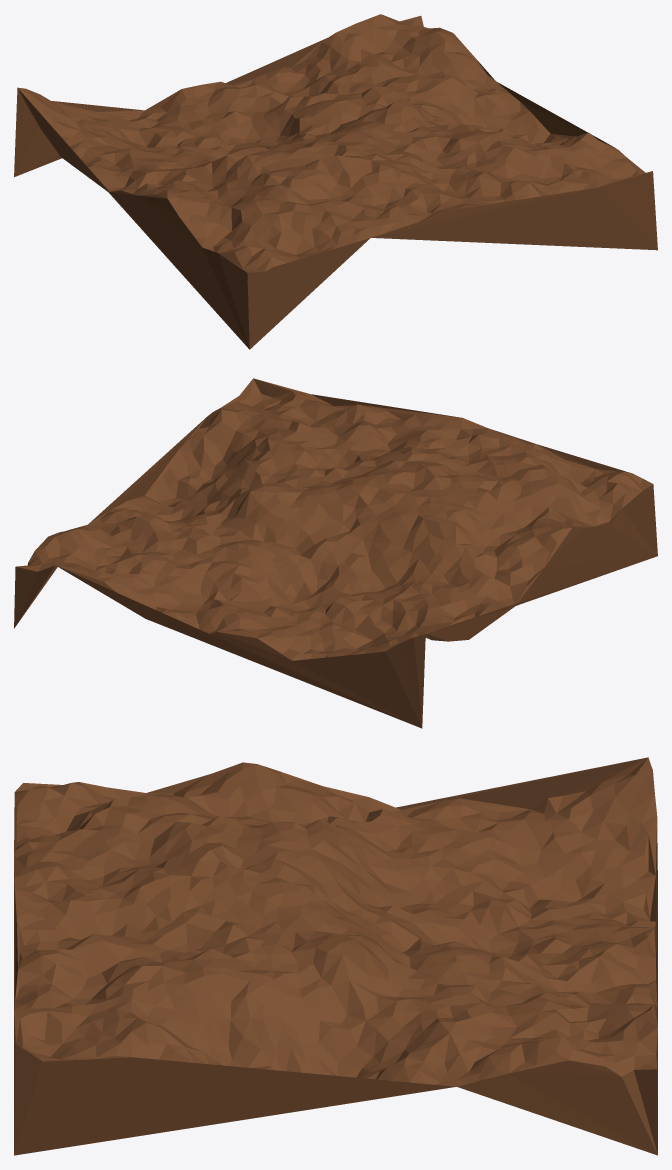
File: flat.obj
The picture shows the model from 3 angles, top to bottom: view 1: azimuth 30°, elevation 25°; view 2: azimuth 150°, elevation 25°; view 3: azimuth 270°, elevation 25°; orthographic projection. The views are drawn at different scales.
Size of the model in its own units: 63.96 by 15.39 by 63.95.
